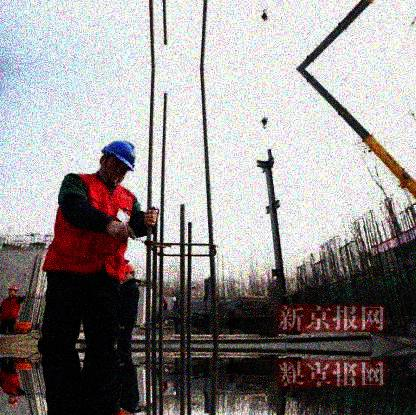helmet: (99, 140, 137, 186), (122, 263, 135, 283), (7, 393, 18, 408), (7, 287, 18, 298)
